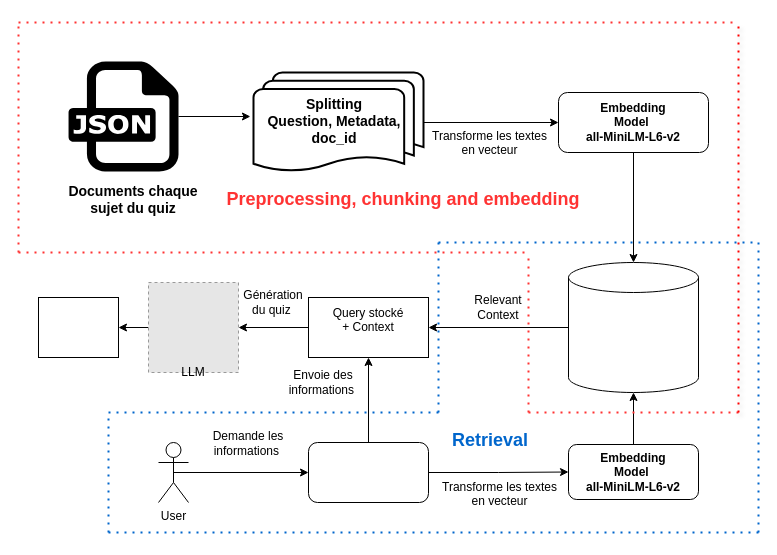
This 777x555 diagram has some shape labels left out. Grey dashed boxes stand in for pictures. The centre of each missing label's shape, as x and y in pixels:
"Query" goes at (368,472).
"Réponse finale" goes at (78,327).
"Vectorstore Chroma" goes at (633,327).
